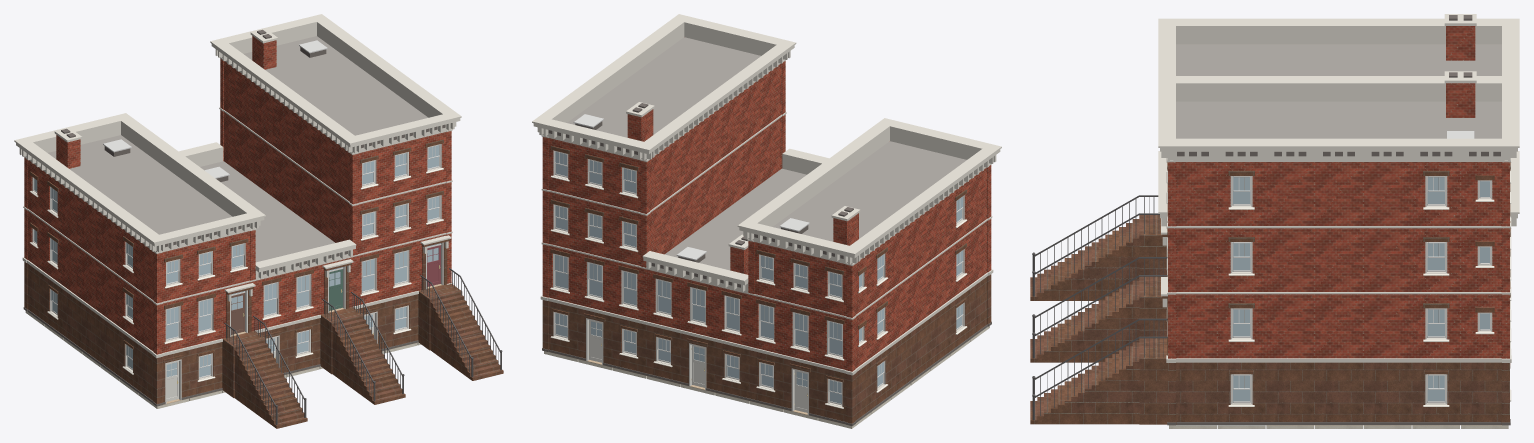
File: building_assembled.glb
3 renders of one model, left to right at view 1: azimuth 30°, elevation 25°; view 2: azimuth 150°, elevation 25°; view 3: azimuth 270°, elevation 25°, orthographic. The views are drawn at different scales.
Visible parts, largest first — view 1: building_brick, building_stone, building_trim, building_roof, building_glass, building_iron, building_frame, building_sash, building_dark, building_plaster, building_metal; view 2: building_brick, building_trim, building_stone, building_roof, building_glass, building_frame, building_sash, building_dark, building_plaster, building_metal; view 3: building_brick, building_stone, building_trim, building_roof, building_iron, building_glass, building_dark, building_sash, building_frame, building_plaster.
Part boxes in pixels (box(x1,y1,x2,y2)): building_brick: box(24, 36, 451, 354); building_stone: box(24, 139, 503, 428); building_trim: box(14, 14, 461, 381); building_roof: box(48, 36, 428, 262); building_glass: box(34, 145, 440, 377); building_iron: box(224, 268, 502, 424); building_frame: box(32, 144, 443, 403); building_sash: box(33, 144, 440, 378); building_dark: box(23, 29, 445, 406); building_plaster: box(25, 311, 420, 408); building_metal: box(103, 40, 327, 178); building_brick: box(542, 61, 991, 371); building_trim: box(532, 14, 1001, 408); building_stone: box(542, 145, 991, 423); building_roof: box(567, 37, 966, 270); building_glass: box(555, 152, 962, 403); building_frame: box(553, 150, 964, 415); building_sash: box(554, 151, 963, 405); building_dark: box(542, 103, 991, 426); building_plaster: box(544, 326, 989, 428); building_metal: box(573, 114, 809, 260); building_brick: box(1168, 26, 1509, 358); building_stone: box(1030, 162, 1510, 424); building_trim: box(1158, 14, 1519, 406); building_roof: box(1176, 44, 1501, 138); building_iron: box(1032, 195, 1167, 419); building_glass: box(1233, 177, 1489, 401); building_dark: box(1167, 15, 1510, 425); building_sash: box(1232, 176, 1490, 403); building_frame: box(1230, 176, 1492, 404); building_plaster: box(1169, 425, 1508, 428).
Bounding box in the file's own units: 18.84 × 14 × 20.1.
17 materials, 3 textured.
